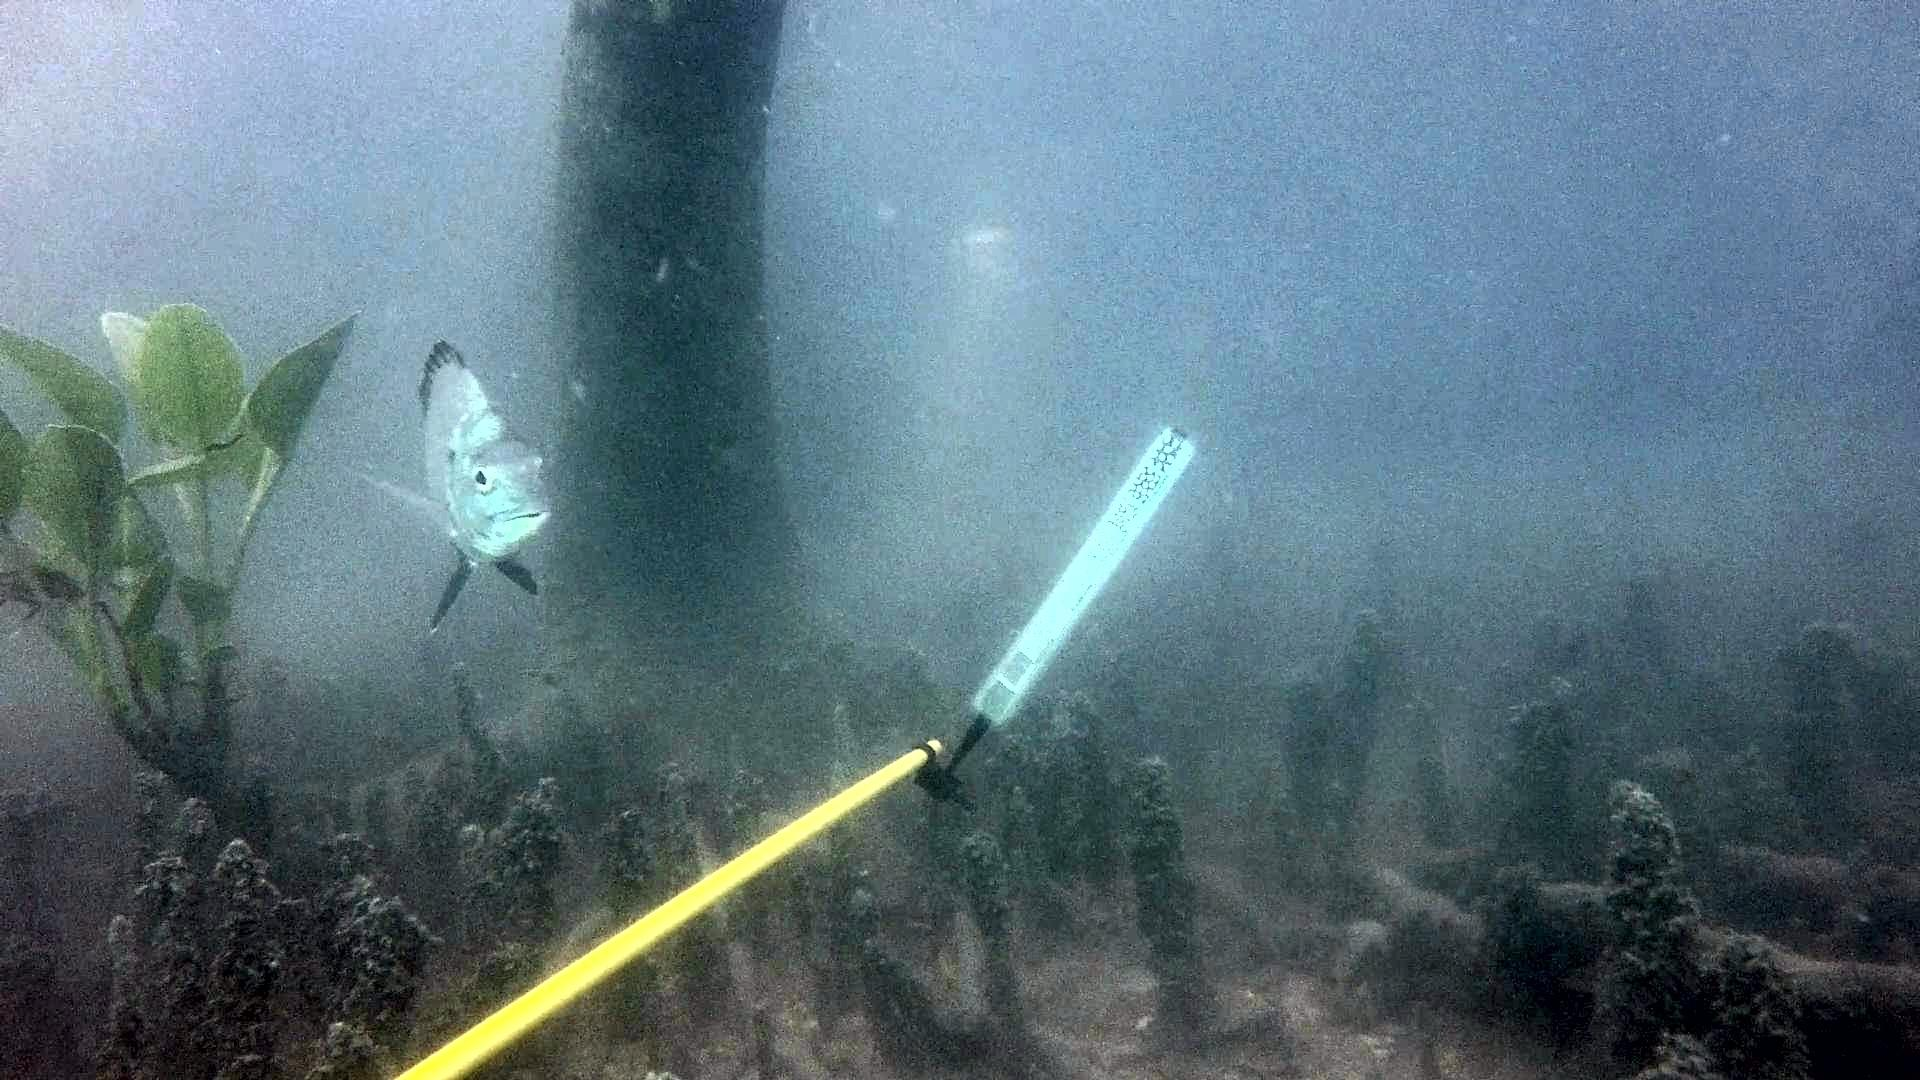acanthopagrus palmaris: (343, 330, 564, 649)
